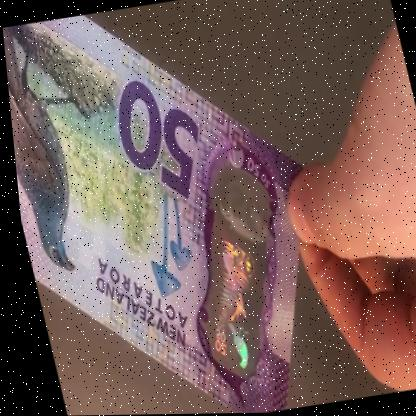50B: (166, 159, 293, 376)
